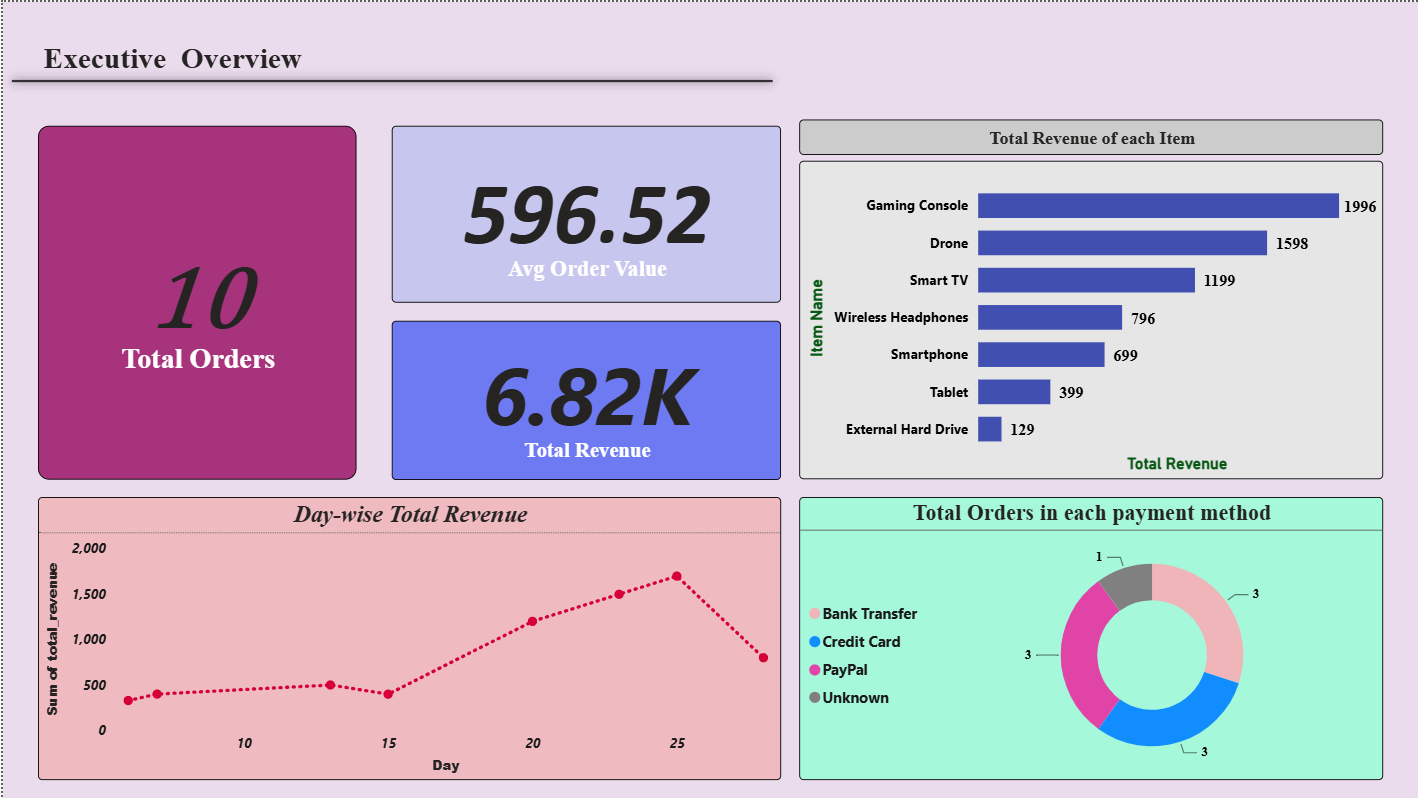

The dashboard page shown, as its layout file describes it:
{"tool":"powerbi","page":{"name":"Executive Overview","canvas":[1280,720],"ordinal":0},"visuals":[{"type":"card","fields":{"Values":["Table_measure.Total Revenue"]},"box":[352,288,352,144],"z":0},{"type":"card","fields":{"Values":["Table_measure.Total Orders"]},"box":[32,112,288,320],"z":1000},{"type":"card","fields":{"Values":["Table_measure.Avg Order Value"]},"box":[352,112,352,160],"z":2000},{"type":"clusteredBarChart","fields":{"Y":["Sum(product_performance.Total_revenue)"],"Category":["product_performance.item_name"]},"box":[720,144,528,288],"z":3000},{"type":"lineChart","title":"Day-wise Total Revenue","fields":{"Category":["revenue_by_day.order_date.Variation.Date Hierarchy.Day"],"Y":["Sum(revenue_by_day.total_revenue)"]},"box":[32,448,672,256],"z":4000},{"type":"donutChart","title":"Total Orders in each payment method","fields":{"Category":["payment_mix.payment_method"],"Y":["Sum(payment_mix.order_count)"]},"box":[720,448,528,256],"z":5000},{"type":"textbox","box":[720,106,528,32],"z":6000},{"type":"shape","box":[0,48,704,48],"z":7000},{"type":"textbox","box":[32,31,324,44],"z":8000}]}

Visuals, with their boxes in screenshot pixels (x1, y1, x2, y2), scaled from the page's 1280x720 canvas onto the 1418x798 screenshot:
card - Table_measure.Total Revenue: left=390, top=319, right=780, bottom=479
card - Table_measure.Total Orders: left=35, top=124, right=354, bottom=479
card - Table_measure.Avg Order Value: left=390, top=124, right=780, bottom=301
clusteredBarChart - Sum(product_performance.Total_revenue) x product_performance.item_name: left=798, top=160, right=1383, bottom=479
"Day-wise Total Revenue" lineChart: left=35, top=497, right=780, bottom=780
"Total Orders in each payment method" donutChart: left=798, top=497, right=1383, bottom=780
textbox: left=798, top=117, right=1383, bottom=153
shape: left=0, top=53, right=780, bottom=106
textbox: left=35, top=34, right=394, bottom=83
